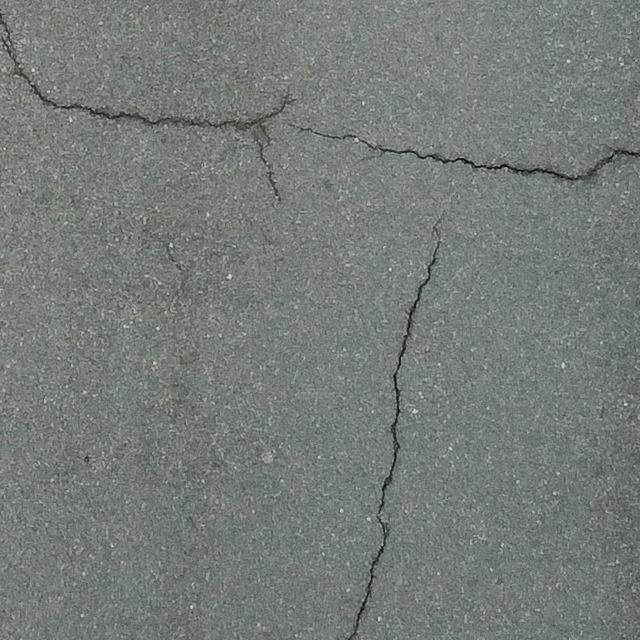LongitudinalCrack: (349, 212, 450, 640)
TransverseCrack: (1, 18, 640, 198)
